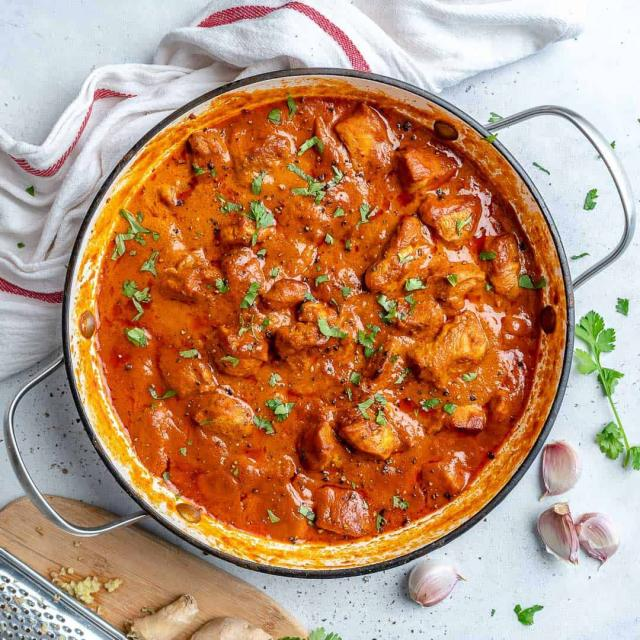Butter Chicken: (95, 103, 555, 545)
